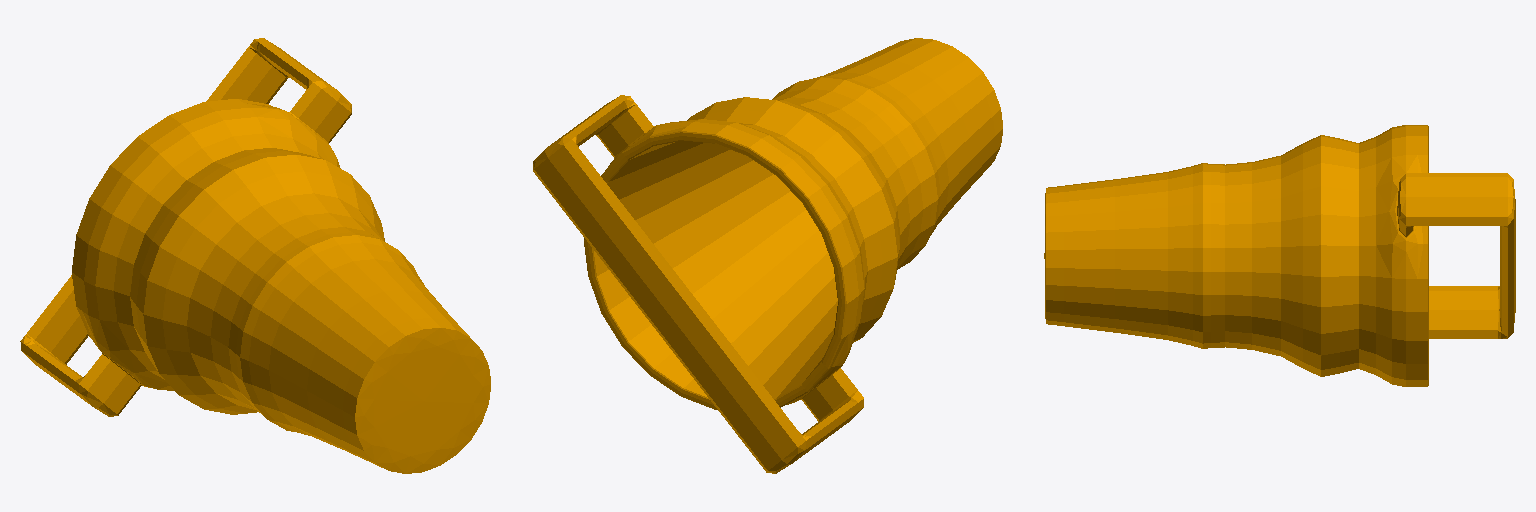
The robot description file, URDF, robot "152":
<?xml version="1.0" ?>
<robot name="152">
  <link name="body">
    <visual>
      <geometry>
        <mesh filename="../shapes/152.obj"/>
      </geometry>
    </visual>
    <collision>
      <geometry>
        <mesh filename="../shapes/152.obj"/>
      </geometry>
    </collision>
  </link>
</robot>

--- What the picture shows (computed from the rendered views, not written in the file) ---
Views: 3 orthographic renders of the robot side by side, from view 1: azimuth 30°, elevation 25°; view 2: azimuth 150°, elevation 25°; view 3: azimuth 270°, elevation 25°.
Model 152 with 1 links and 0 joints (none), rooted at body, posed all joints at 0.
Links seen in each view (by area): view 1: body; view 2: body; view 3: body.
Boxes of the visible links, box(x1,y1,x2,y2) form: body: box(20, 38, 490, 473); body: box(533, 38, 1002, 473); body: box(1044, 125, 1515, 386).
Bounding box of the posed robot: 1.88 × 3.23 × 1.88 m (x, y, z).
1 mesh visuals loaded from 1 distinct referenced files (1 OBJ).